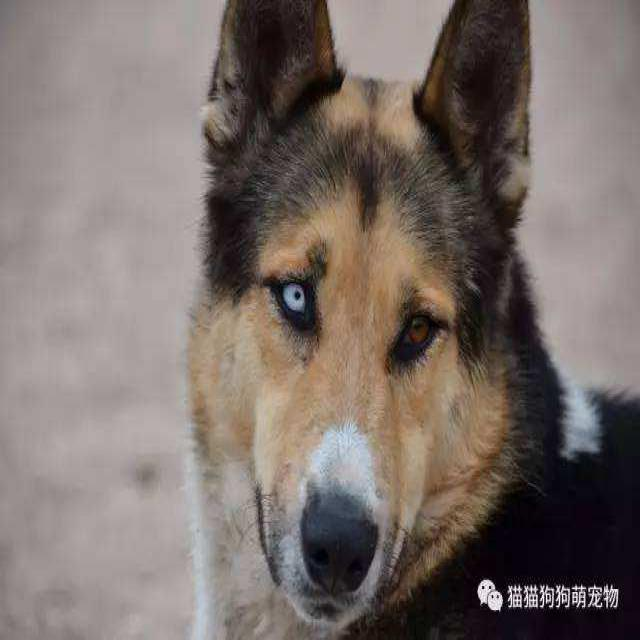eye: (270, 274, 322, 337), (390, 306, 445, 361)
